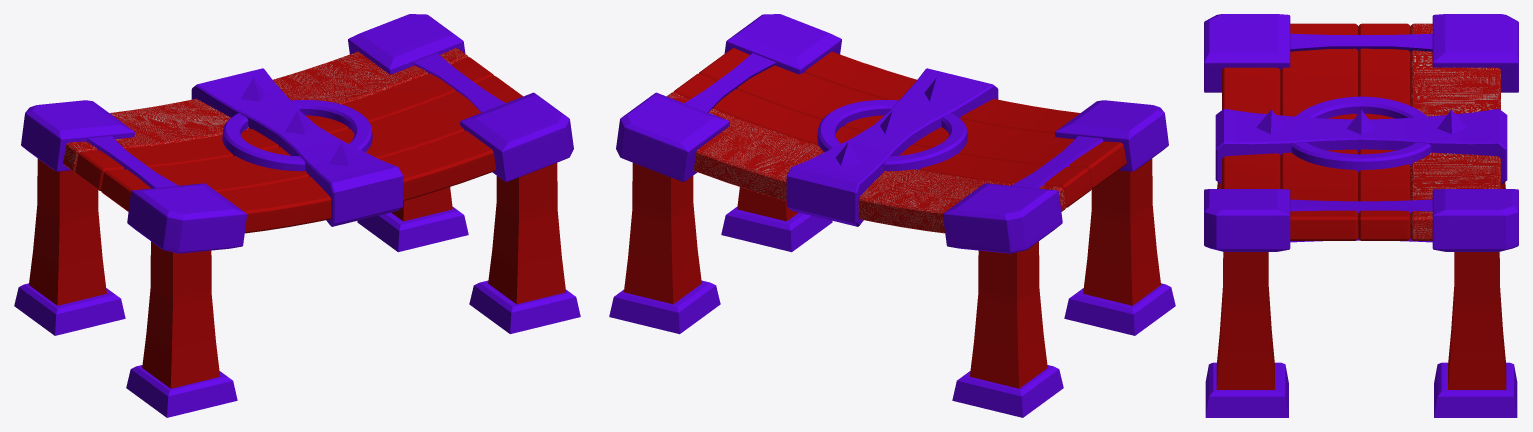
File: table_low.fbx
3 views of the same model, side by side, from view 1: azimuth 30°, elevation 25°; view 2: azimuth 150°, elevation 25°; view 3: azimuth 270°, elevation 25° (orthographic). The views are drawn at different scales.
Parts seen in each view (by area): view 1: polySurface12; view 2: polySurface12; view 3: polySurface12.
Part boxes in pixels (left/top/right/bottom): polySurface12: left=14, top=14, right=580, bottom=417; polySurface12: left=609, top=14, right=1175, bottom=417; polySurface12: left=1204, top=14, right=1518, bottom=417.
Size of the model in its own units: 1.75 by 0.8138 by 1.13.
